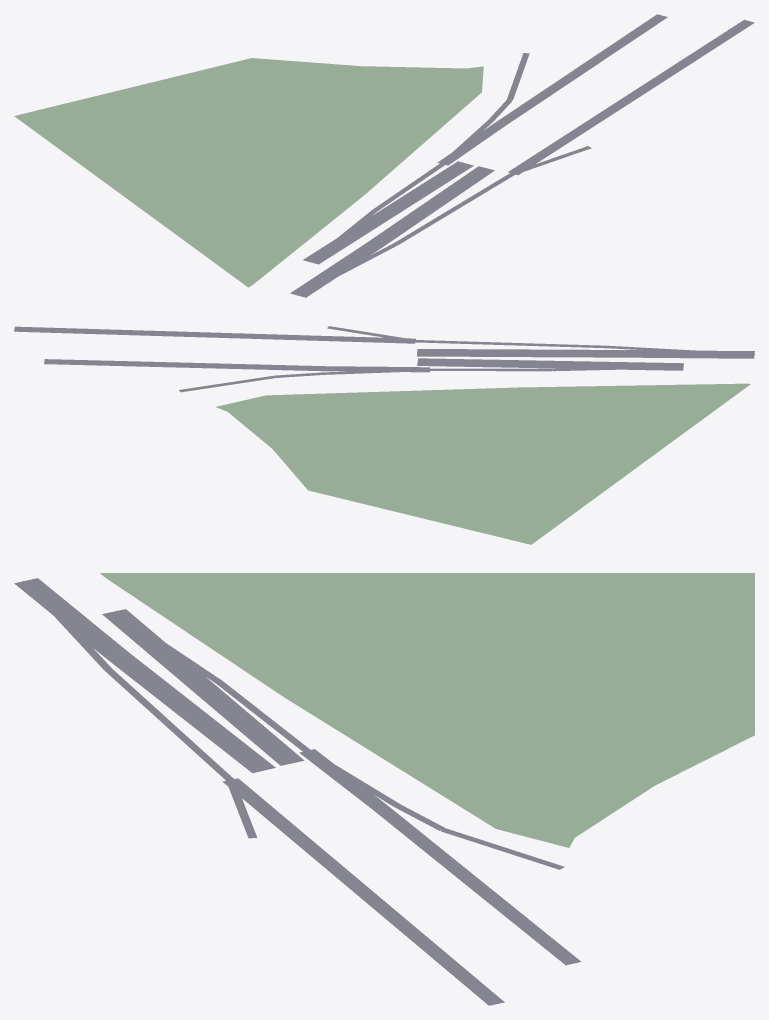
The model's file is 131_127_mid.glb.
3 renders of one model, top to bottom at view 1: azimuth 30°, elevation 25°; view 2: azimuth 150°, elevation 25°; view 3: azimuth 270°, elevation 25°, orthographic. The views are drawn at different scales.
Bounding box in the file's own units: 406 × 3.5 × 289.
